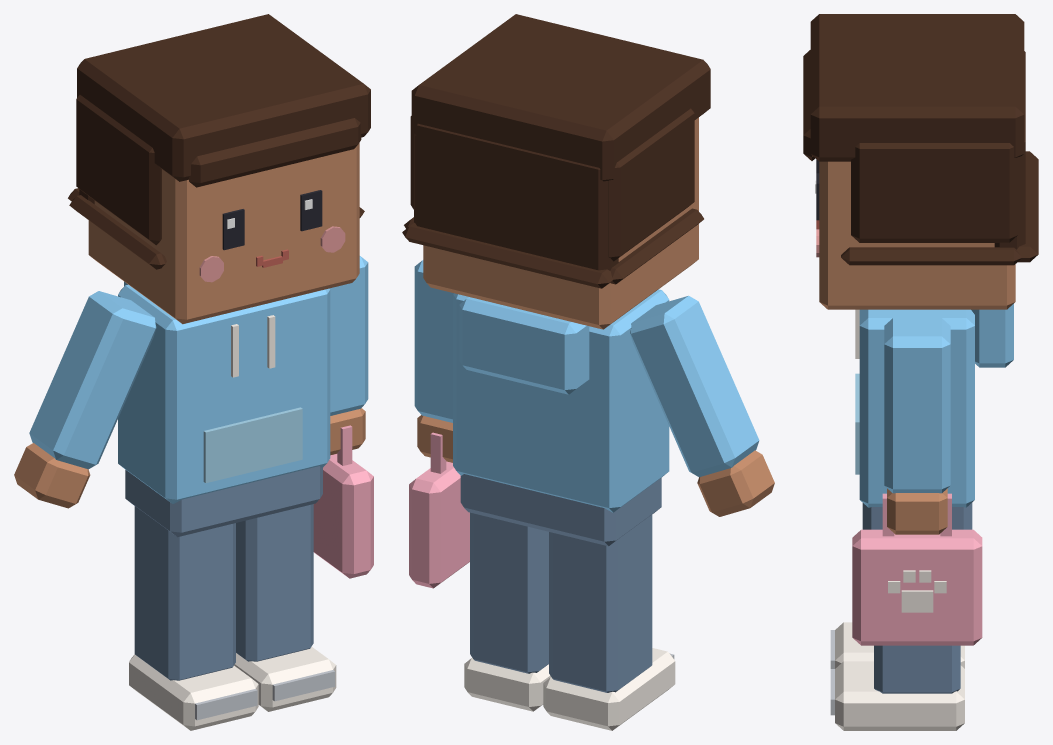
Rendered from CleanACat_NPC_Customer_Pip.fbx.
The picture shows the model from 3 angles, left to right: view 1: azimuth 30°, elevation 25°; view 2: azimuth 150°, elevation 25°; view 3: azimuth 270°, elevation 25°; orthographic projection. The views are drawn at different scales.
Parts seen in each view (by area): view 1: CleanACat_NPC_Customer_Pip_Head, CleanACat_NPC_Customer_Pip_Body, CleanACat_NPC_Customer_Pip_LegR, CleanACat_NPC_Customer_Pip_ArmR, CleanACat_NPC_Customer_Pip_LegL, CleanACat_NPC_Customer_Pip_ArmL; view 2: CleanACat_NPC_Customer_Pip_Head, CleanACat_NPC_Customer_Pip_Body, CleanACat_NPC_Customer_Pip_LegR, CleanACat_NPC_Customer_Pip_ArmR, CleanACat_NPC_Customer_Pip_LegL, CleanACat_NPC_Customer_Pip_ArmL; view 3: CleanACat_NPC_Customer_Pip_Head, CleanACat_NPC_Customer_Pip_ArmL, CleanACat_NPC_Customer_Pip_Body, CleanACat_NPC_Customer_Pip_LegL, CleanACat_NPC_Customer_Pip_LegR.
Boxes of the visible parts, x1,y1,x2,y2 form: CleanACat_NPC_Customer_Pip_Head: [68, 14, 370, 324]; CleanACat_NPC_Customer_Pip_Body: [118, 281, 330, 537]; CleanACat_NPC_Customer_Pip_LegR: [129, 506, 258, 730]; CleanACat_NPC_Customer_Pip_ArmR: [14, 291, 156, 508]; CleanACat_NPC_Customer_Pip_LegL: [234, 504, 336, 711]; CleanACat_NPC_Customer_Pip_ArmL: [313, 256, 373, 578]; CleanACat_NPC_Customer_Pip_Head: [402, 14, 710, 329]; CleanACat_NPC_Customer_Pip_Body: [453, 289, 669, 546]; CleanACat_NPC_Customer_Pip_LegR: [543, 514, 675, 730]; CleanACat_NPC_Customer_Pip_ArmR: [630, 295, 774, 516]; CleanACat_NPC_Customer_Pip_LegL: [464, 512, 550, 711]; CleanACat_NPC_Customer_Pip_ArmL: [409, 260, 469, 588]; CleanACat_NPC_Customer_Pip_Head: [803, 14, 1038, 309]; CleanACat_NPC_Customer_Pip_ArmL: [852, 318, 982, 645]; CleanACat_NPC_Customer_Pip_Body: [855, 303, 1013, 529]; CleanACat_NPC_Customer_Pip_LegL: [830, 645, 964, 730]; CleanACat_NPC_Customer_Pip_LegR: [830, 622, 964, 668].
Bounding box in the file's own units: 2.74 × 4.86 × 1.63.
1 material, 1 textured.
